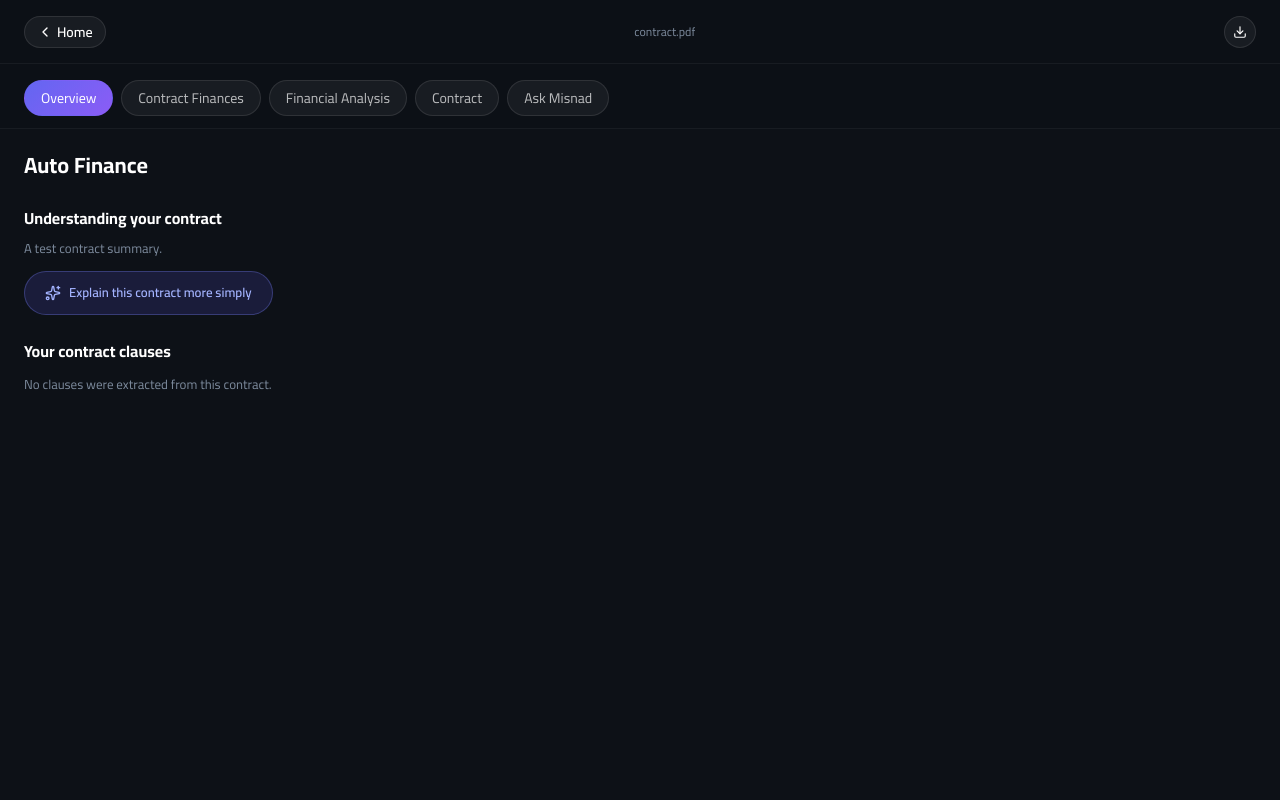
Test: Report Download dialog integration with ResultsScreen › opens the report dialog from the header button on any tab
Click the button with test id "button-open-report-dialog": (1240, 32) [1224, 16, 1256, 48]
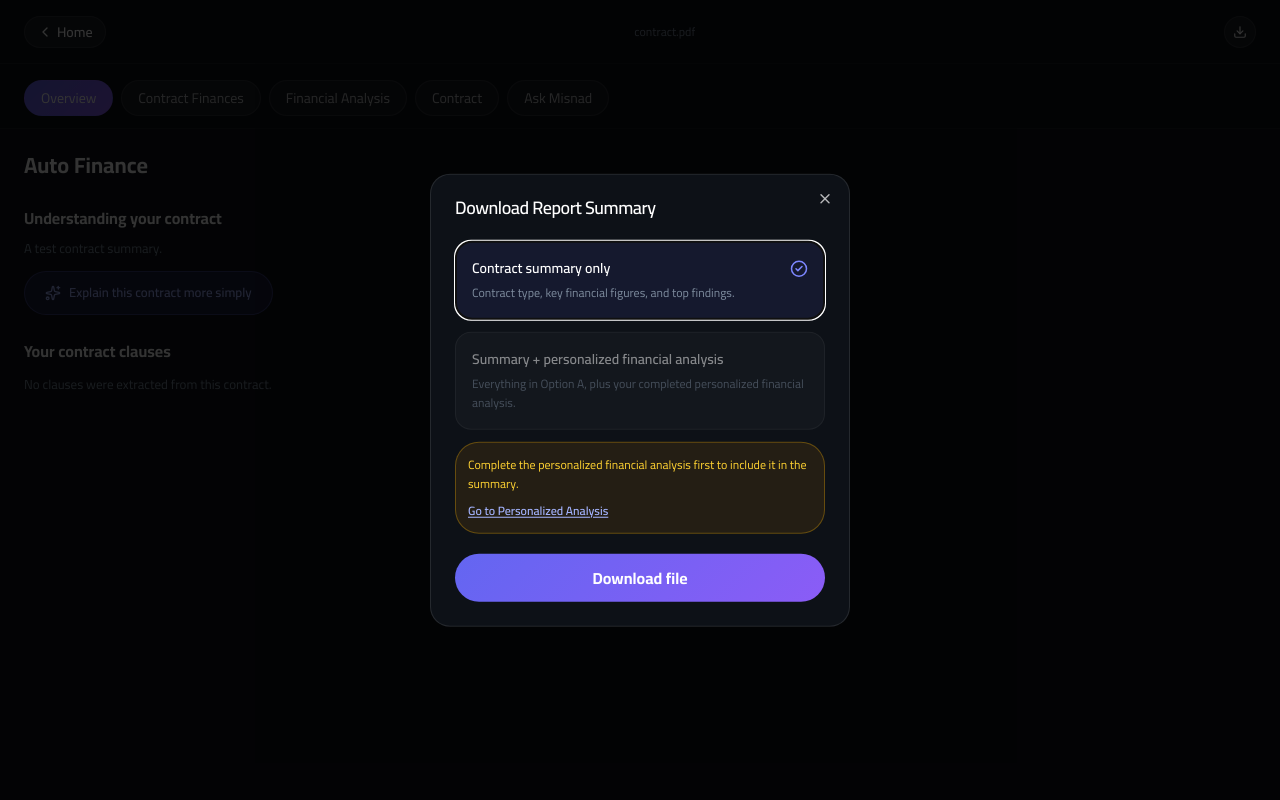
expect the dialog with test id "report-download-dialog" is shown: met, box [430, 174, 850, 626]
